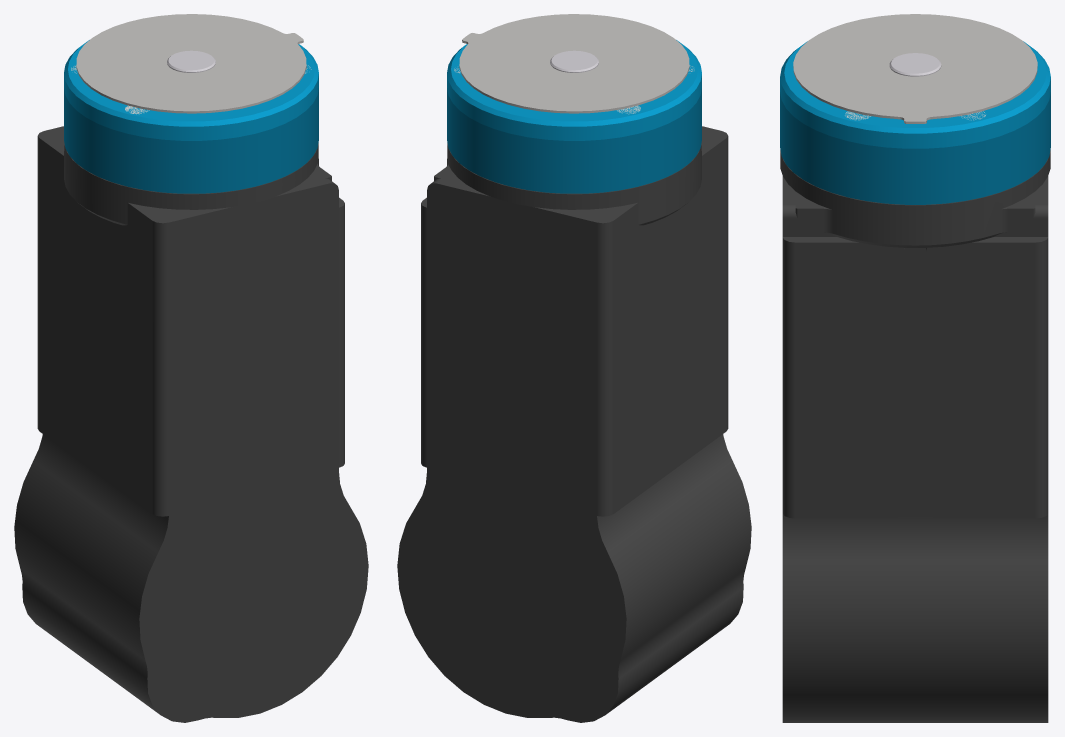
File: elbow_link.dae
The picture shows the model from 3 angles, left to right: view 1: azimuth 30°, elevation 25°; view 2: azimuth 150°, elevation 25°; view 3: azimuth 270°, elevation 25°; orthographic projection. The views are drawn at different scales.
Parts seen in each view (by area): view 1: FBXASC227FBXASC130FBXASC189FBXASC227FBXASC131FBXASC170FBXASC (×6); view 2: FBXASC227FBXASC130FBXASC189FBXASC227FBXASC131FBXASC170FBXASC (×6); view 3: FBXASC227FBXASC130FBXASC189FBXASC227FBXASC131FBXASC170FBXASC (×6).
Part boxes in pixels (left/top/right/bottom): FBXASC227FBXASC130FBXASC189FBXASC227FBXASC131FBXASC170FBXASC (×6): left=14, top=14, right=368, bottom=722; FBXASC227FBXASC130FBXASC189FBXASC227FBXASC131FBXASC170FBXASC (×6): left=397, top=14, right=751, bottom=722; FBXASC227FBXASC130FBXASC189FBXASC227FBXASC131FBXASC170FBXASC (×6): left=780, top=14, right=1050, bottom=722.
Bounding box in the file's own units: 0.054 × 0.052 × 0.137.
